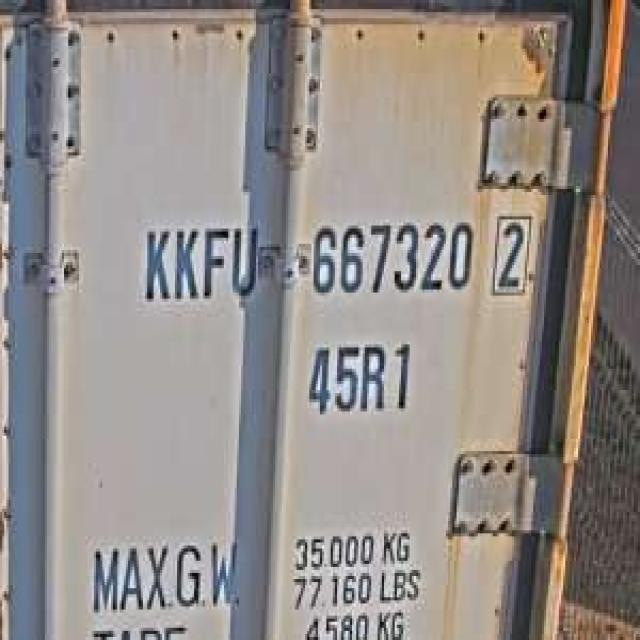dv: (486, 204, 534, 302)
owner: (136, 213, 262, 311)
serial: (305, 204, 476, 305)
size: (301, 332, 418, 421)
